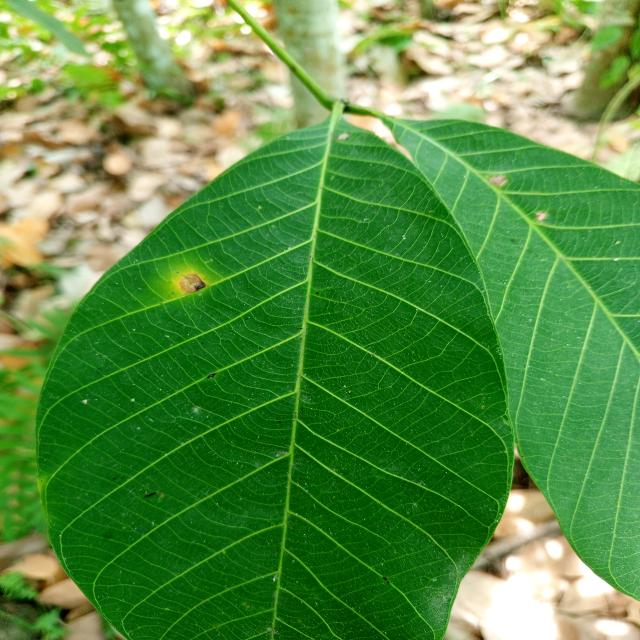Leaf-Blight: (179, 272, 206, 295)
